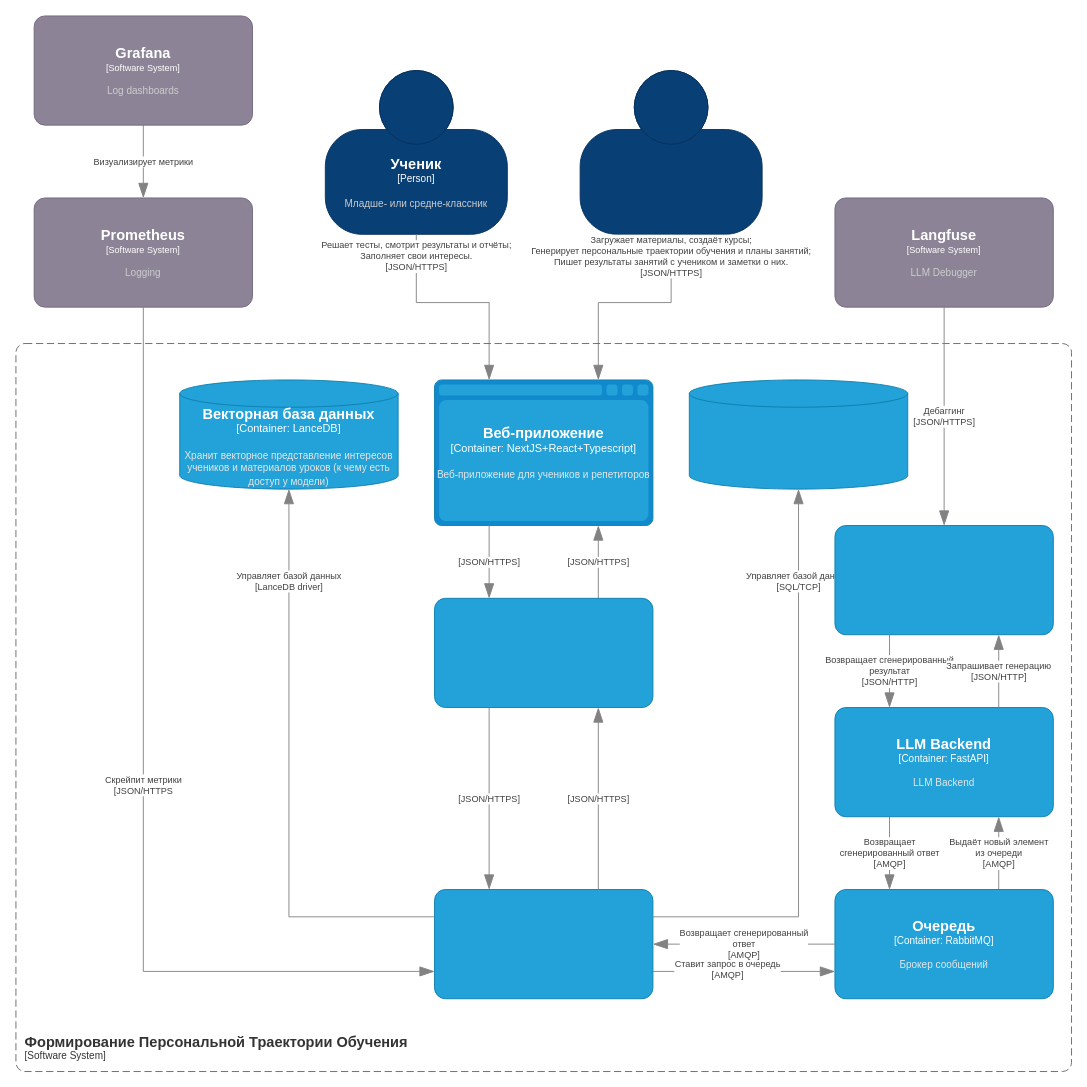
Image size: 1087x1087. Some labels were removed from this diagram. The centre of each missing label's shape, as x and y in pixels:
Backend API server [Container: Uvicorn+FastAPI+Python] Бэкенд сервис: the point at 543,944
Frontend Web server [Container: NGINX] Веб сервер: the point at 543,652
Ollama [Container: Ollama] Inference platform: the point at 943,580
База данных [Container: PostgreSQL] База данных: the point at 798,434
Репетитор [Person] Репетитор начальных или средних классов: the point at 670,152
